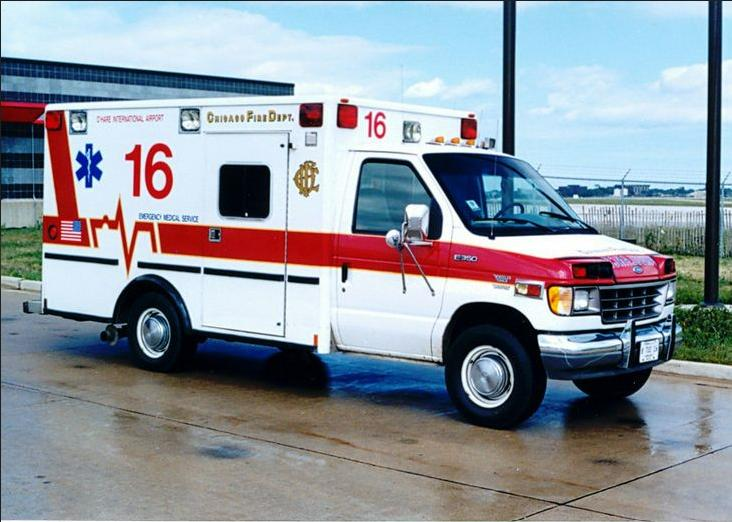ambulance_off: (20, 94, 677, 431)
